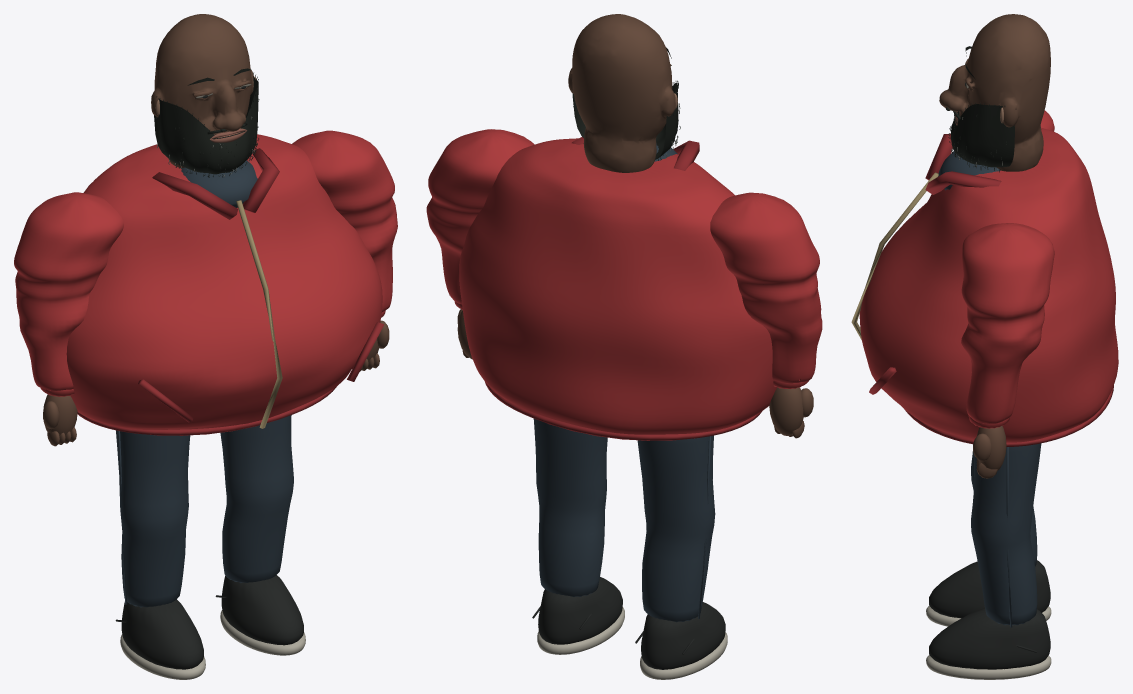
File: npc.glb
The picture shows the model from 3 angles, left to right: view 1: azimuth 30°, elevation 25°; view 2: azimuth 150°, elevation 25°; view 3: azimuth 270°, elevation 25°; orthographic projection. The views are drawn at different scales.
Parts seen in each view (by area): view 1: NPC_Mesh, LeftArm.001, Head.001, LeftLeg.001, RightLeg.001, RightArm.001, Shoe.003, Shoe.001; view 2: NPC_Mesh, LeftArm.001, Head.001, LeftLeg.001, RightLeg.001, RightArm.001, Shoe.003, Shoe.001; view 3: NPC_Mesh, RightArm.001, Head.001, RightLeg.001, Shoe.003, Shoe.001.
Part boxes in pixels (x1,y1,x2,y2): NPC_Mesh: (66, 134, 384, 435); LeftArm.001: (14, 192, 123, 446); Head.001: (151, 14, 259, 177); LeftLeg.001: (116, 430, 190, 607); RightLeg.001: (220, 415, 293, 582); RightArm.001: (292, 130, 397, 371); Shoe.003: (215, 575, 305, 655); Shoe.001: (115, 599, 205, 679); NPC_Mesh: (459, 137, 776, 440); LeftArm.001: (710, 192, 822, 438); Head.001: (568, 14, 680, 172); LeftLeg.001: (637, 435, 715, 622); RightLeg.001: (533, 418, 607, 596); RightArm.001: (426, 129, 534, 359); Shoe.003: (532, 577, 624, 654); Shoe.001: (635, 602, 727, 679); NPC_Mesh: (851, 128, 1118, 446); RightArm.001: (961, 223, 1054, 478); Head.001: (939, 14, 1050, 172); RightLeg.001: (971, 443, 1041, 627); Shoe.003: (926, 608, 1051, 679); Shoe.001: (926, 560, 1051, 626).
Bounding box in the file's own units: 1.19 × 1.89 × 0.7334.
